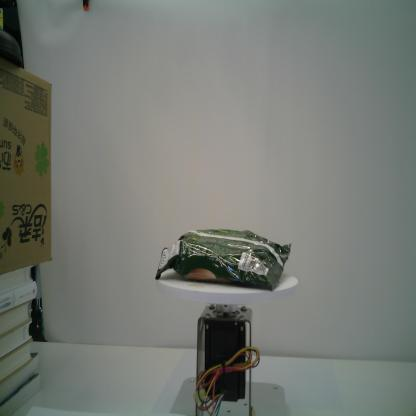Instant Noodles: (155, 229, 292, 292)
